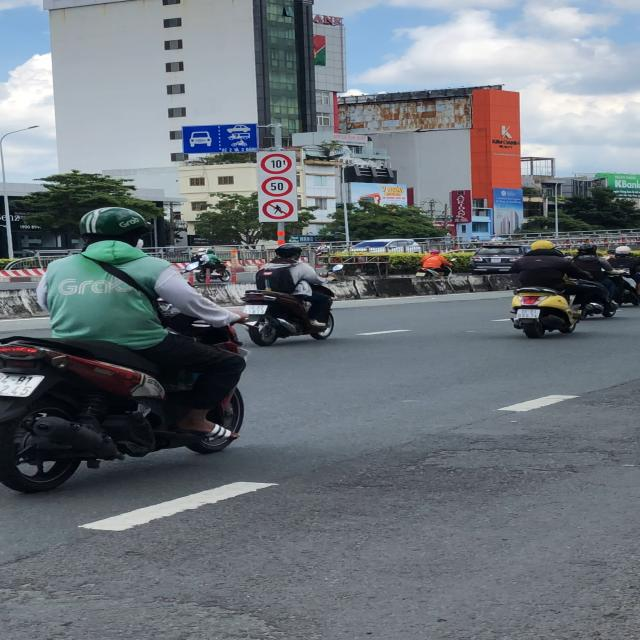Bien bao cam nguoi di bo: (261, 198, 300, 222)
Bien bao toc do toi da cho phep: (260, 174, 298, 198)
